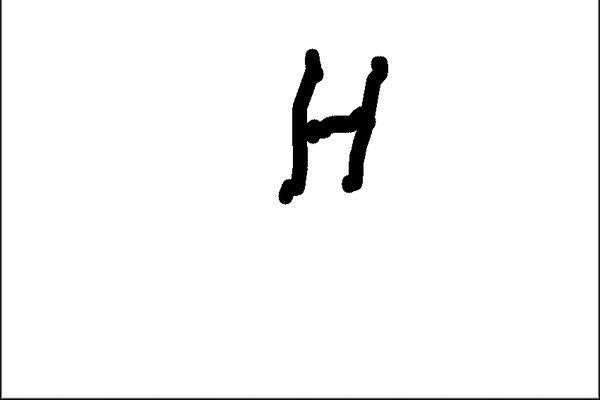H: (273, 43, 393, 209)
